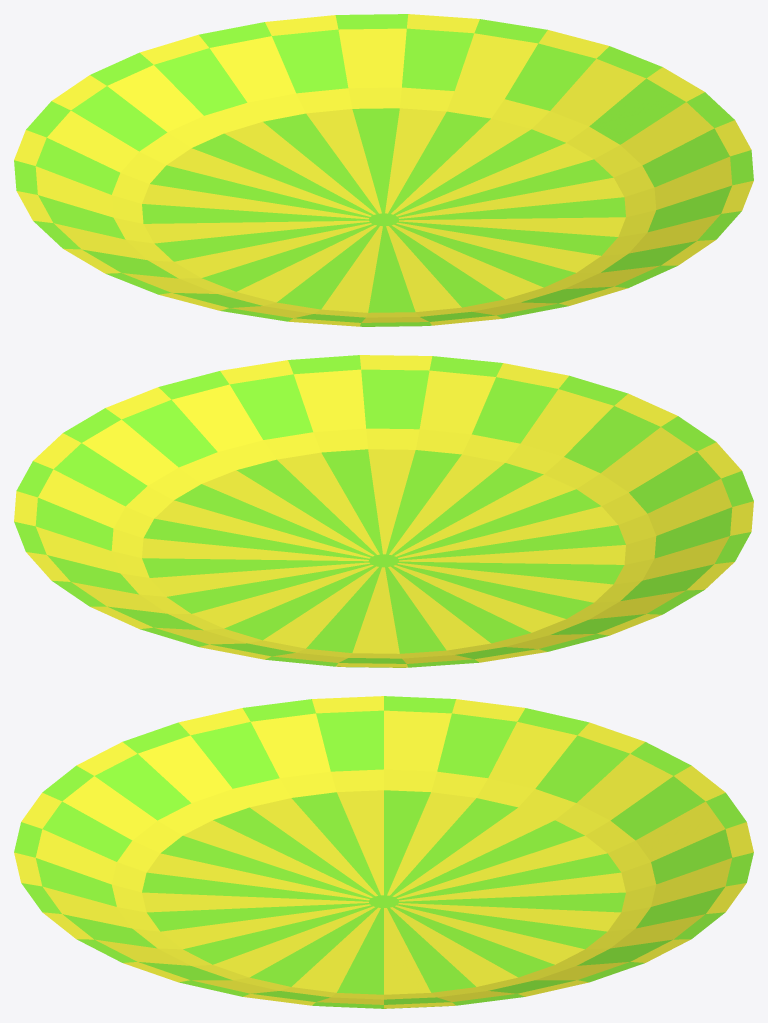
Rendered from saucer.fbx.
3 views of the same model, one above another, from view 1: azimuth 30°, elevation 25°; view 2: azimuth 150°, elevation 25°; view 3: azimuth 270°, elevation 25° (orthographic).
Parts seen in each view (by area): view 1: Cylinder; view 2: Cylinder; view 3: Cylinder.
Part boxes in pixels (x1,y1,x2,y2): Cylinder: (14, 14, 753, 326); Cylinder: (14, 355, 753, 667); Cylinder: (14, 696, 753, 1008).
Size of the model in its own units: 425 by 44.58 by 425.
